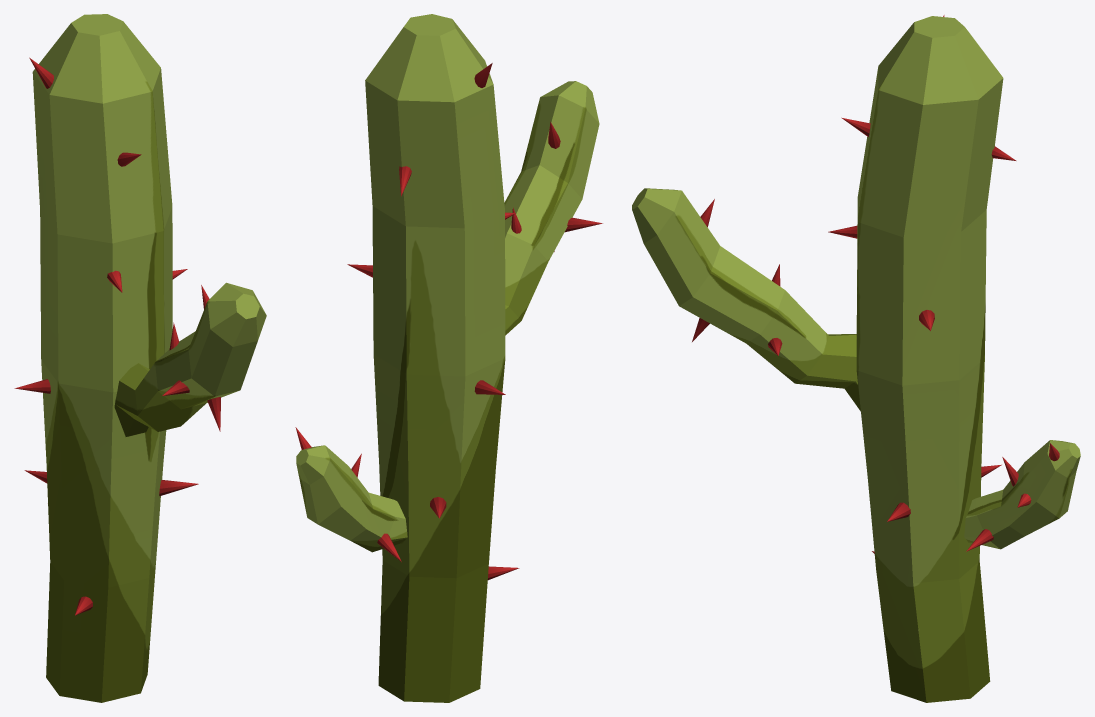
Rendered from tree_desert3.fbx.
3 views of the same model, side by side, from view 1: azimuth 30°, elevation 25°; view 2: azimuth 150°, elevation 25°; view 3: azimuth 270°, elevation 25° (orthographic).
Visible parts, largest first — view 1: tree_desert3; view 2: tree_desert3; view 3: tree_desert3.
Boxes of the visible parts, x1,y1,x2,y2 form: tree_desert3: (14, 14, 266, 702); tree_desert3: (295, 14, 602, 702); tree_desert3: (632, 15, 1080, 702).
Size of the model in its own units: 73.23 by 275 by 171.
1 material, 1 textured.
